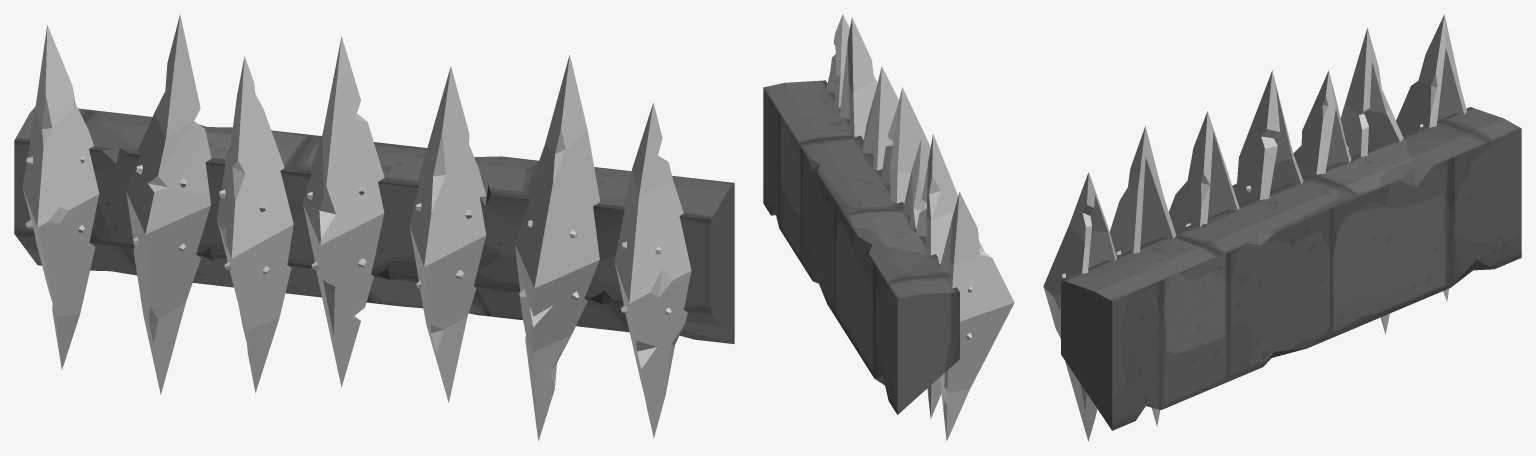
The model's file is SM_Bld_45_Battlements_03.fbx.
The picture shows the model from 3 angles, left to right: view 1: azimuth 30°, elevation 25°; view 2: azimuth 150°, elevation 25°; view 3: azimuth 270°, elevation 25°; orthographic projection. The views are drawn at different scales.
Visible parts, largest first — view 1: SM_Bld_45_Battlements_03; view 2: SM_Bld_45_Battlements_03; view 3: SM_Bld_45_Battlements_03.
Boxes of the visible parts, x1,y1,x2,y2 form: SM_Bld_45_Battlements_03: (14, 14, 734, 441); SM_Bld_45_Battlements_03: (763, 14, 1014, 441); SM_Bld_45_Battlements_03: (1043, 14, 1521, 441).
Bounding box in the file's own units: 606 × 429 × 597.
